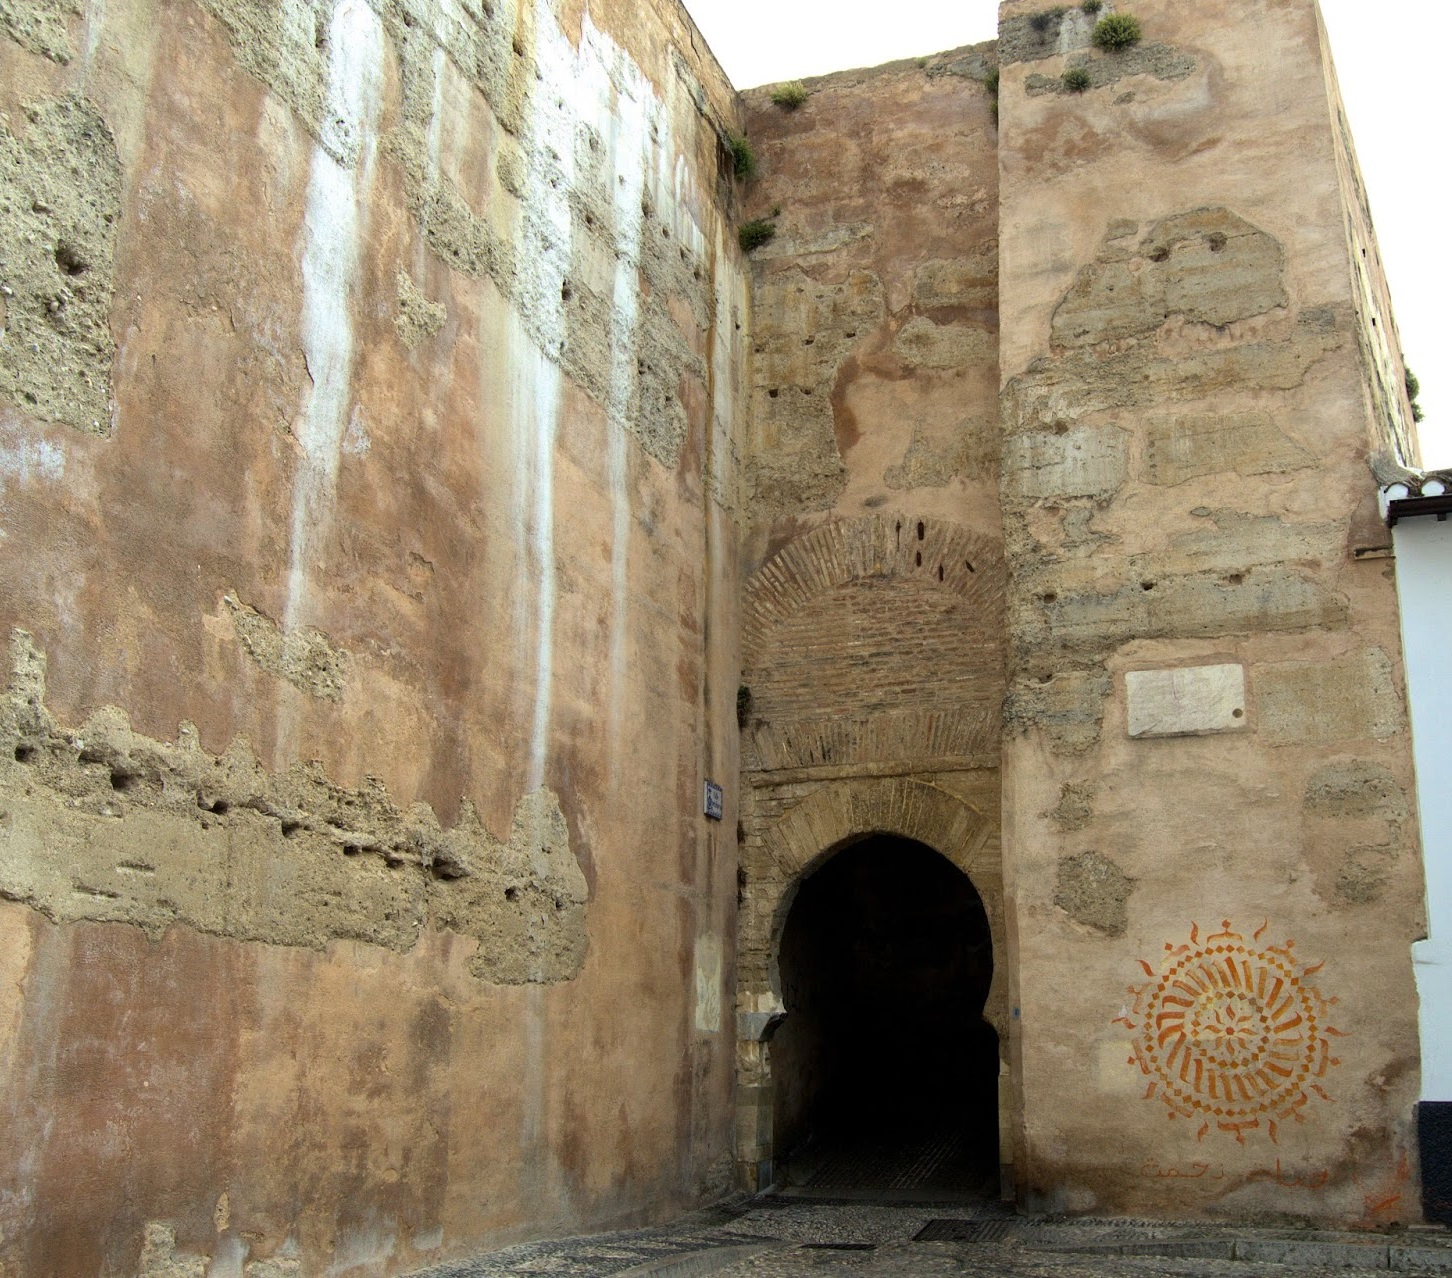arco-herradura: (746, 815, 1016, 1043)
